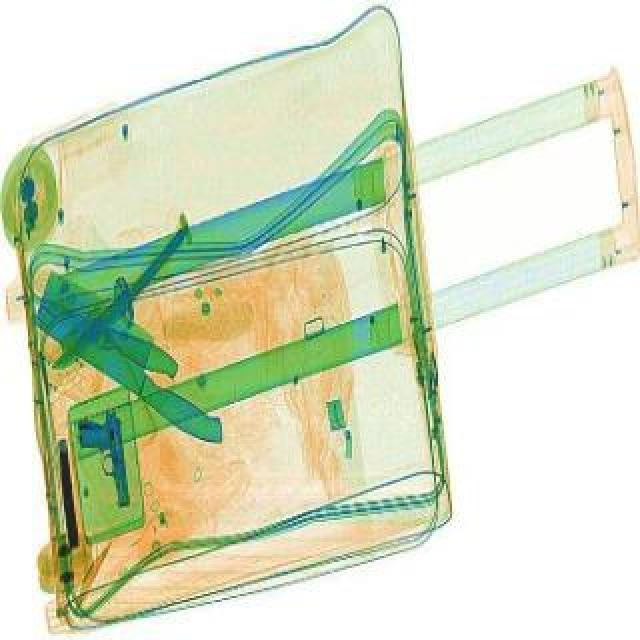gun: (74, 406, 130, 504), (52, 436, 82, 546)
knife: (8, 266, 260, 450), (48, 218, 200, 374), (20, 276, 184, 380)
